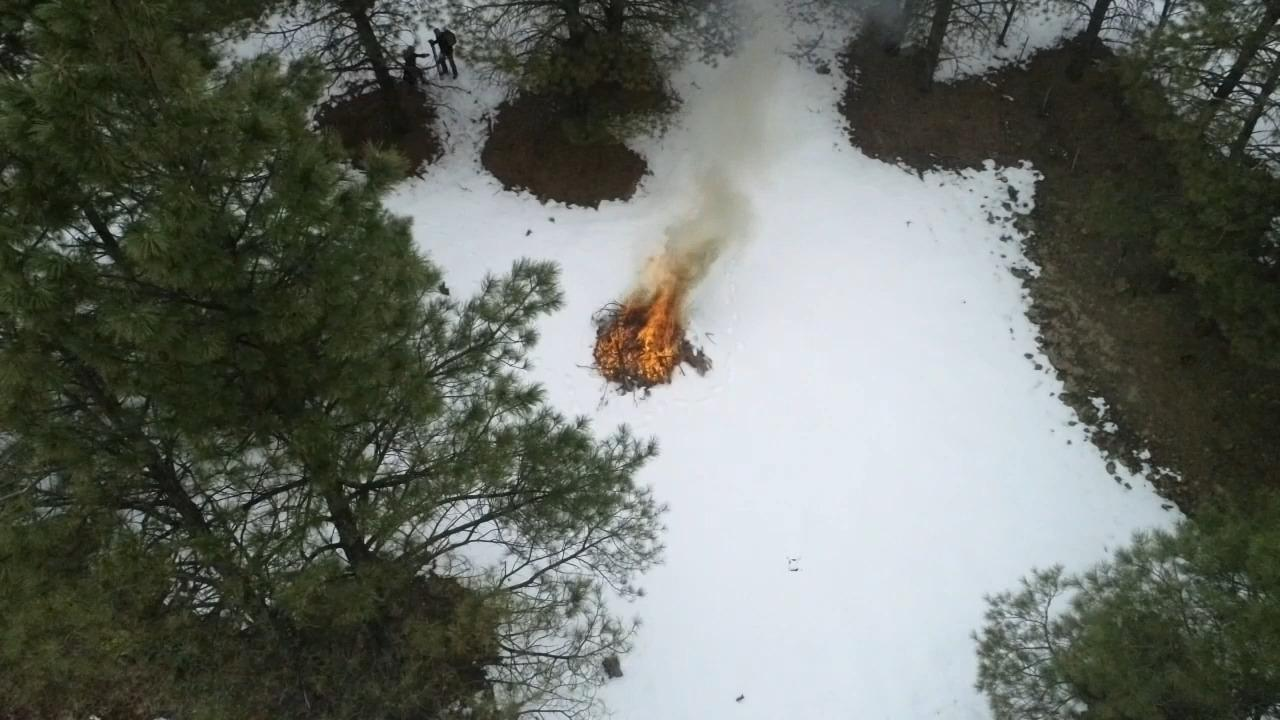fire: (590, 231, 699, 389)
